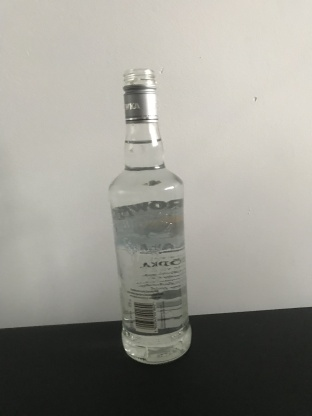nakretka: (121, 66, 159, 123)
